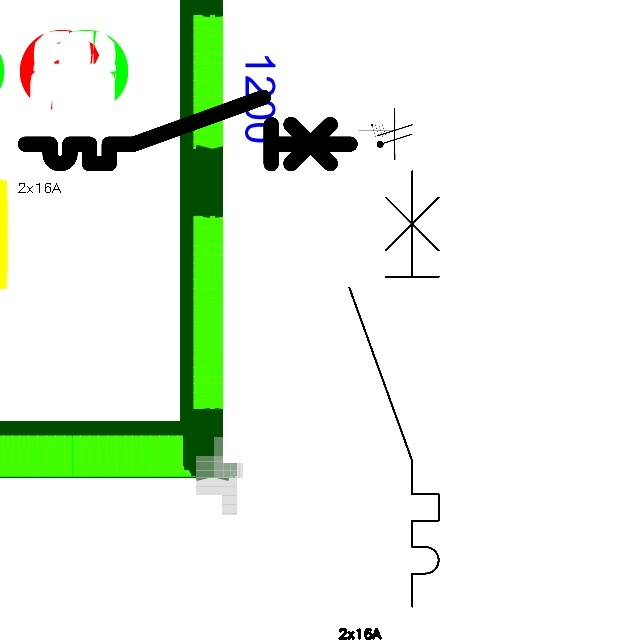interruptor_termomagnetico: (338, 159, 450, 618), (17, 89, 358, 172)
